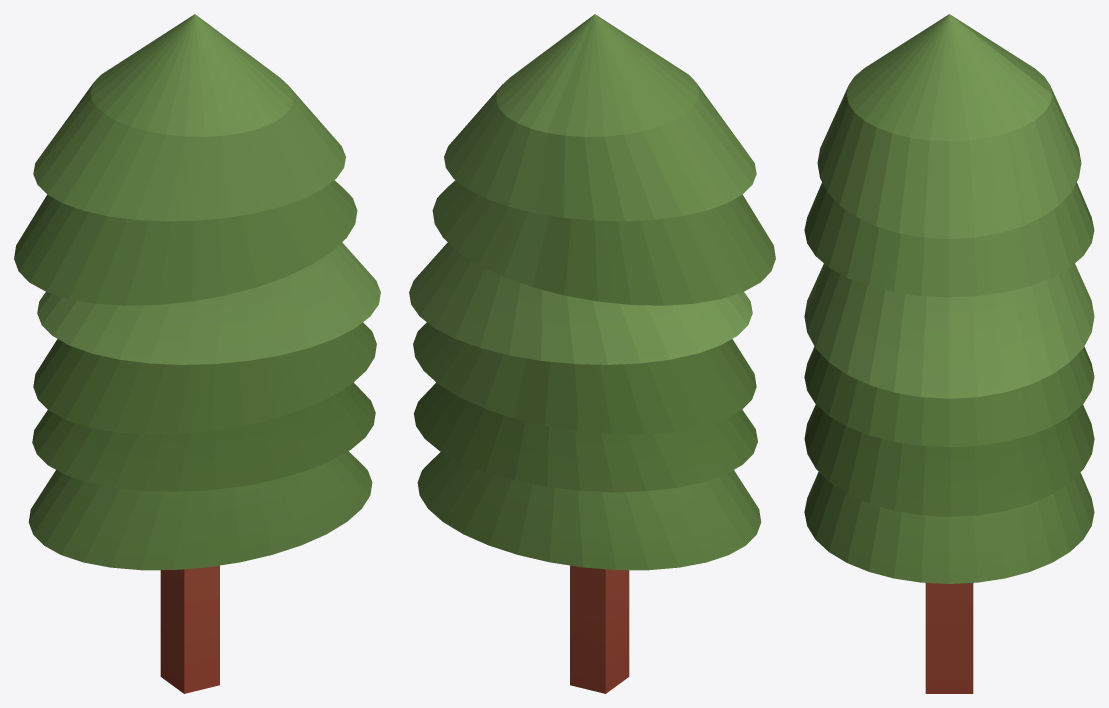
Rendered from Arvore (1).fbx.
3 renders of one model, left to right at view 1: azimuth 30°, elevation 25°; view 2: azimuth 150°, elevation 25°; view 3: azimuth 270°, elevation 25°, orthographic.
Visible parts, largest first — view 1: Cylinder.002; view 2: Cylinder.002; view 3: Cylinder.002.
Part boxes in pixels (x1,y1,x2,y2): Cylinder.002: [14, 14, 380, 693]; Cylinder.002: [409, 14, 775, 693]; Cylinder.002: [804, 14, 1094, 693].
Bounding box in the file's own units: 381 × 723 × 282.
5 materials, 5 textured.
